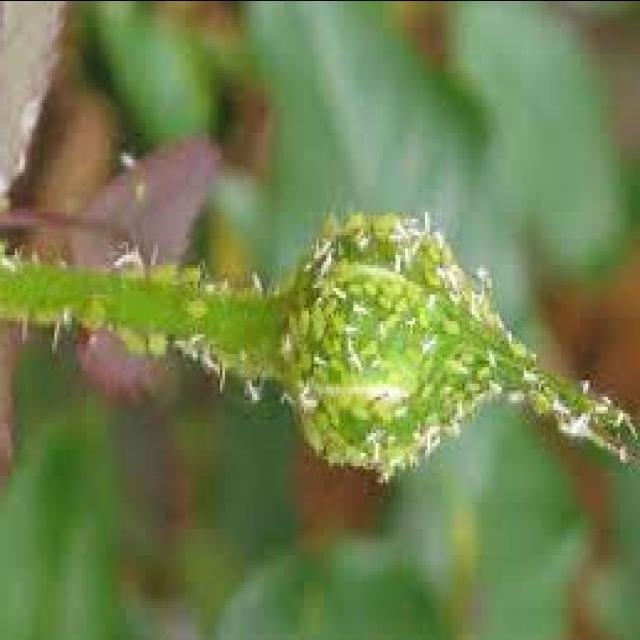aphid: (144, 244, 188, 284), (116, 314, 153, 356), (80, 290, 114, 330), (178, 287, 218, 320), (524, 383, 558, 419), (322, 198, 346, 248), (435, 304, 469, 339), (311, 287, 331, 340), (341, 201, 373, 234), (180, 254, 210, 287), (506, 326, 536, 359), (322, 390, 348, 426), (348, 392, 376, 422), (298, 294, 316, 339), (423, 258, 447, 290), (393, 284, 418, 314), (474, 353, 502, 379), (331, 300, 353, 333), (428, 231, 450, 264), (286, 300, 306, 336), (314, 399, 338, 429), (299, 337, 319, 372), (326, 347, 354, 372), (322, 284, 344, 314), (378, 284, 400, 314), (361, 330, 385, 356), (460, 340, 484, 366), (465, 370, 489, 396), (363, 267, 383, 297), (418, 297, 438, 327), (346, 270, 368, 296)
